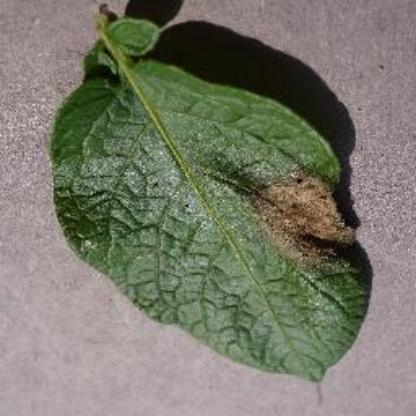Late-Blight: (55, 42, 383, 388)
